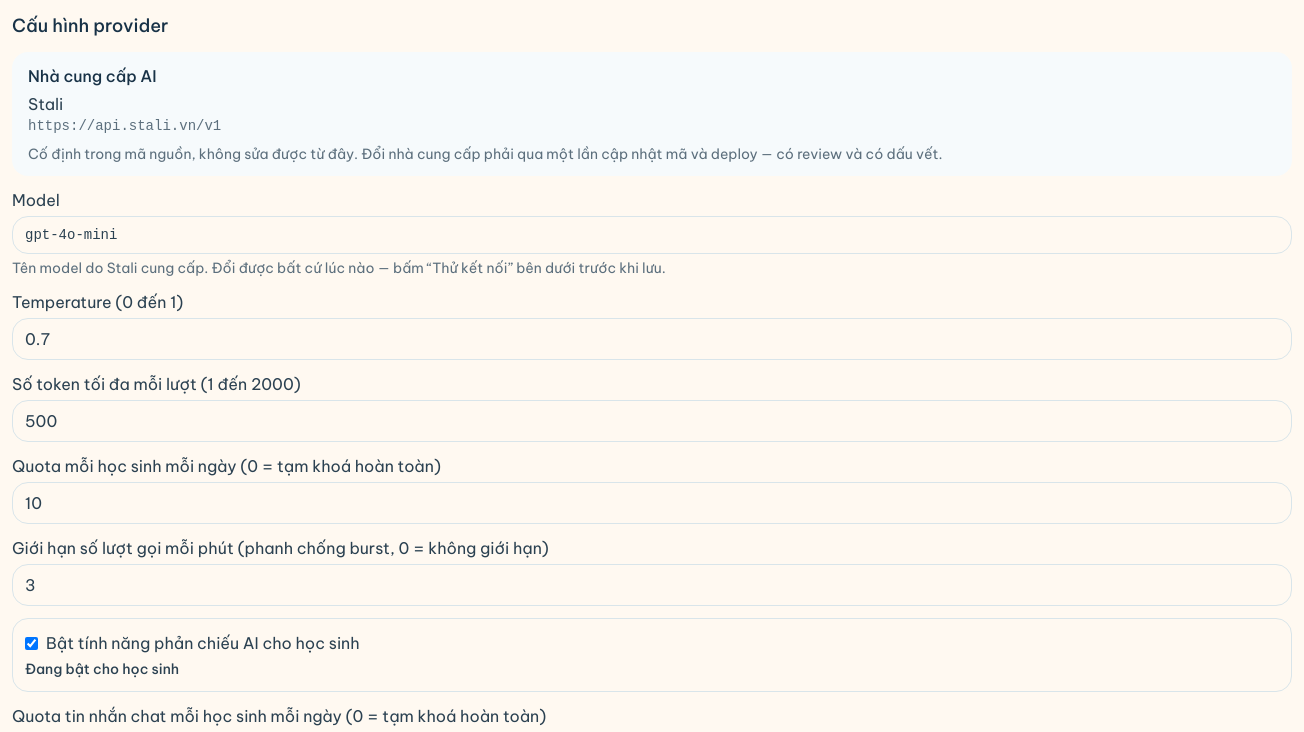
Scenario: AiConfigEditor — kill switch (Decision D) › tắt công tắc nhưng CHƯA lưu -> hiện trạng thái TƯƠNG LAI ('Sẽ tắt sau khi lưu'), không khẳng định sai hiện tại
Expected: the field labelled "Model" is shown, [12,216,1292,254]
Click the checkbox labelled "Bật tính năng phản chiếu AI cho học sinh": (32, 643) [25,636,38,650]
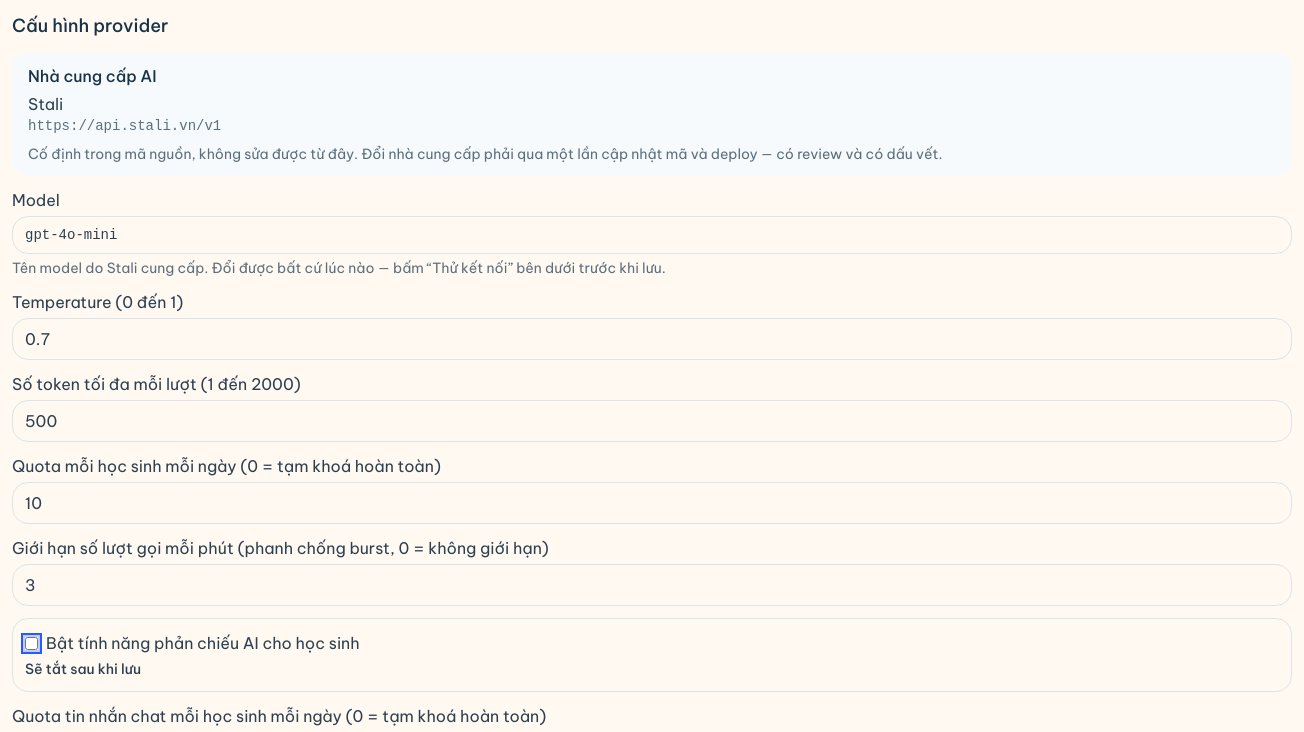
Expected: the text "Sẽ tắt sau khi lưu" is shown, [25,660,141,678]
Expected: the text "Đang bật cho học sinh" is gone
